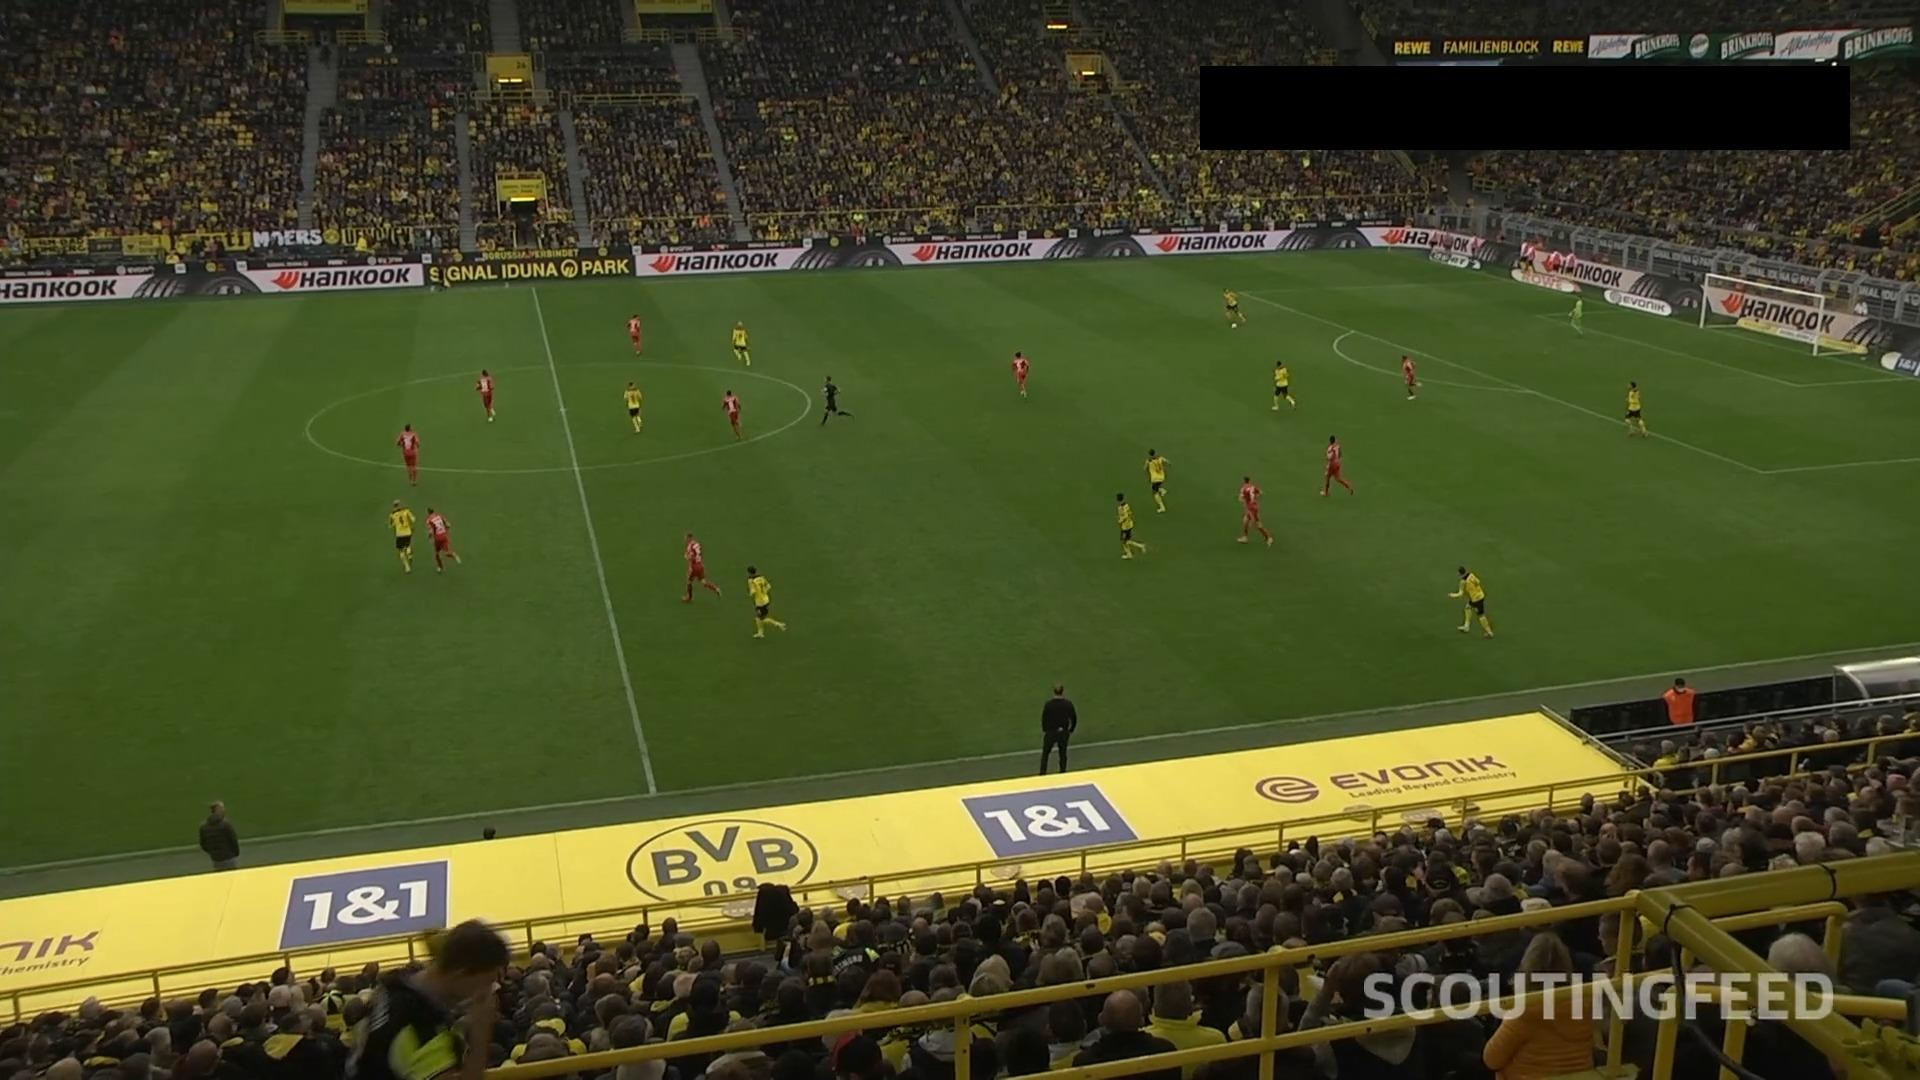ball: (1230, 322, 1238, 330)
